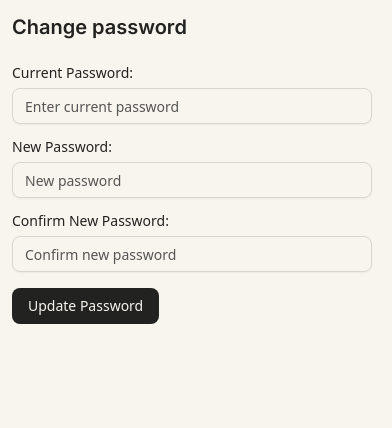
Scenario: ChangePassword Component (src/components/account/ChangePassword.tsx) › shows validations errors if fields are empty or short
Click the button "Update Password": (86,306) [12, 288, 159, 324]
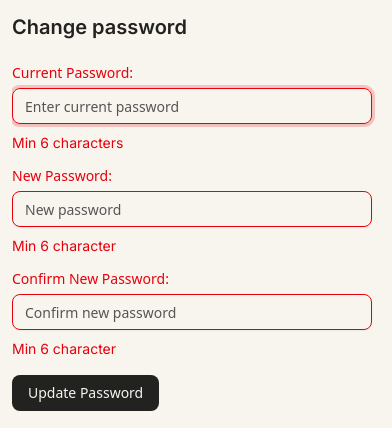
Check: the text "Min 6 characters" is shown, box [12, 134, 123, 151]
Check: the text "Min 6 character" is shown 2 times, box [12, 237, 116, 254]; [12, 340, 116, 357]
